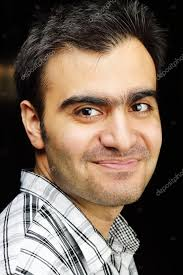middle_eastern_male: (49, 43, 165, 216)
